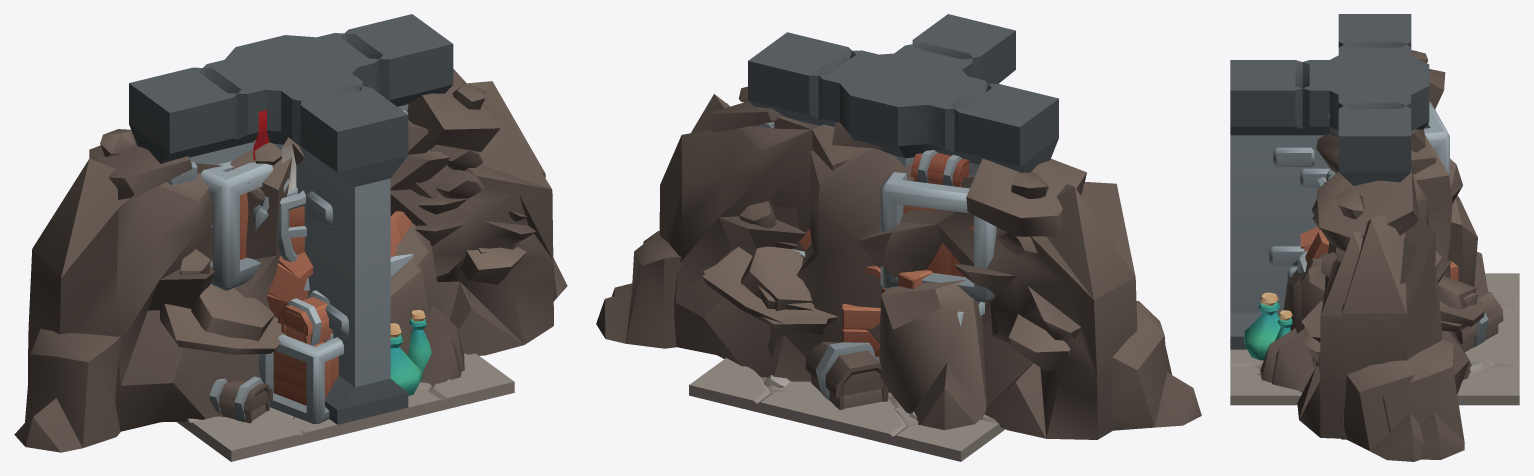
The model's file is dungeon.glb.
3 renders of one model, left to right at view 1: azimuth 30°, elevation 25°; view 2: azimuth 150°, elevation 25°; view 3: azimuth 270°, elevation 25°, orthographic. The views are drawn at different scales.
Visible parts, largest first — view 1: rubble_large, wall_corner, wall_arched, box_stacked, rubble_half, floor_tile_large_rocks, pillar_decorated, wall_pillar, floor_dirt_large, keg, wall, floor_tile_large; view 2: rubble_large, rubble_half, wall_arched, box_stacked, wall_pillar, floor_tile_large_rocks, wall, wall_corner, floor_tile_large, crates_stacked; view 3: rubble_half, rubble_large, wall_corner, wall_arched, floor_tile_large_rocks, box_stacked, wall, wall_pillar, floor_dirt_large, floor_tile_large.
Part boxes in pixels (x1,y1,x2,y2): rubble_large: (14, 106, 567, 452); wall_corner: (186, 70, 408, 424); wall_arched: (129, 14, 453, 185); box_stacked: (201, 162, 431, 423); rubble_half: (390, 69, 545, 371); floor_tile_large_rocks: (176, 353, 513, 461); pillar_decorated: (248, 36, 339, 262); wall_pillar: (203, 35, 429, 227); floor_dirt_large: (231, 379, 514, 461); keg: (267, 252, 313, 318); wall: (174, 41, 382, 171); floor_tile_large: (177, 381, 514, 461); rubble_large: (611, 103, 1201, 439); rubble_half: (596, 86, 854, 381); wall_arched: (748, 32, 1058, 172); box_stacked: (791, 150, 996, 409); wall_pillar: (748, 51, 1019, 168); floor_tile_large_rocks: (689, 358, 1003, 461); wall: (748, 51, 1025, 172); wall_corner: (890, 14, 1023, 175); floor_tile_large: (689, 385, 1005, 461); crates_stacked: (842, 270, 932, 359); rubble_half: (1272, 147, 1484, 459); rubble_large: (1260, 50, 1487, 461); wall_corner: (1230, 41, 1400, 349); wall_arched: (1338, 14, 1411, 185); floor_tile_large_rocks: (1230, 273, 1519, 397); box_stacked: (1244, 101, 1503, 360); wall: (1338, 90, 1411, 185); wall_pillar: (1320, 55, 1429, 137); floor_dirt_large: (1230, 361, 1519, 405); floor_tile_large: (1230, 345, 1519, 397).
Size of the model in its own units: 8.13 by 4.79 by 4.
Materials: 1 (1 with a texture image).
